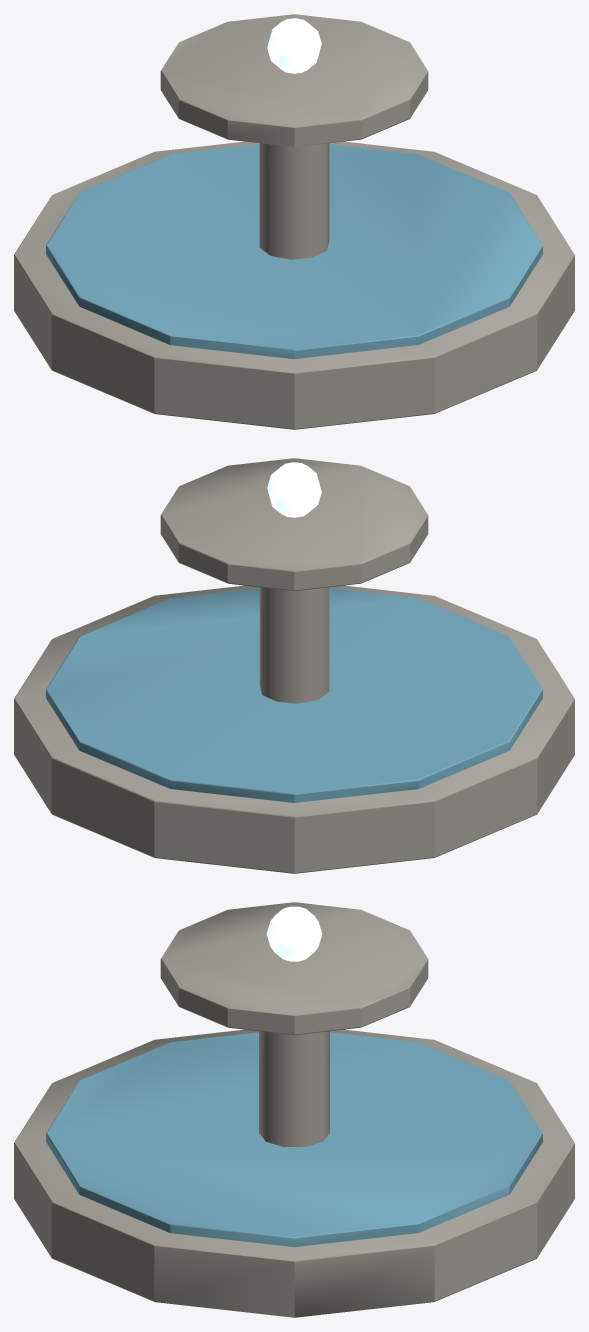
Rendered from SM_Kurpark_Fountain_LOD1.fbx.
3 views of the same model, one above another, from view 1: azimuth 30°, elevation 25°; view 2: azimuth 150°, elevation 25°; view 3: azimuth 270°, elevation 25° (orthographic).
Parts seen in each view (by area): view 1: SM_Kurpark_Fountain_LOD1; view 2: SM_Kurpark_Fountain_LOD1; view 3: SM_Kurpark_Fountain_LOD1.
Boxes of the visible parts, bbox=[...] form: SM_Kurpark_Fountain_LOD1: bbox=[14, 14, 574, 429]; SM_Kurpark_Fountain_LOD1: bbox=[14, 458, 574, 873]; SM_Kurpark_Fountain_LOD1: bbox=[14, 902, 574, 1317].
Bounding box in the file's own units: 4.4 × 2.52 × 4.4.
